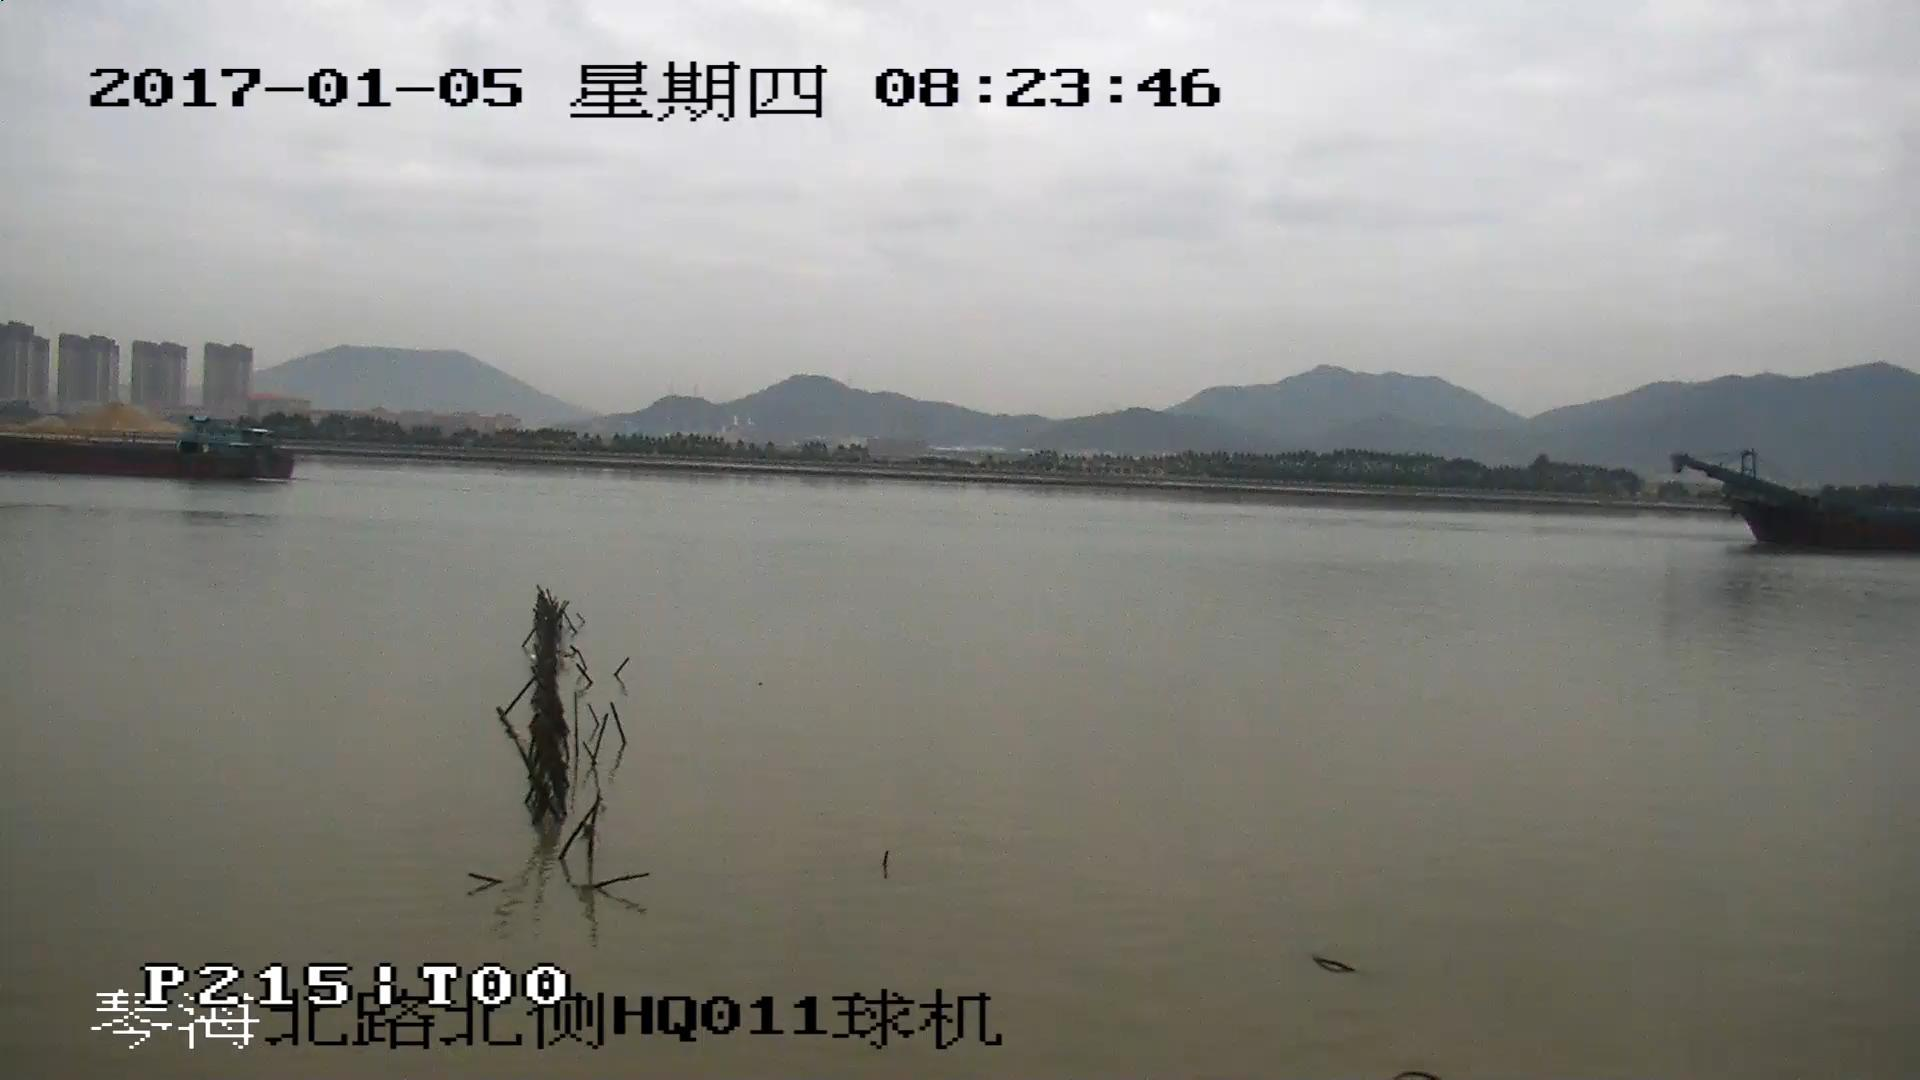Ship: (1676, 456, 1920, 556), (3, 418, 295, 481)
